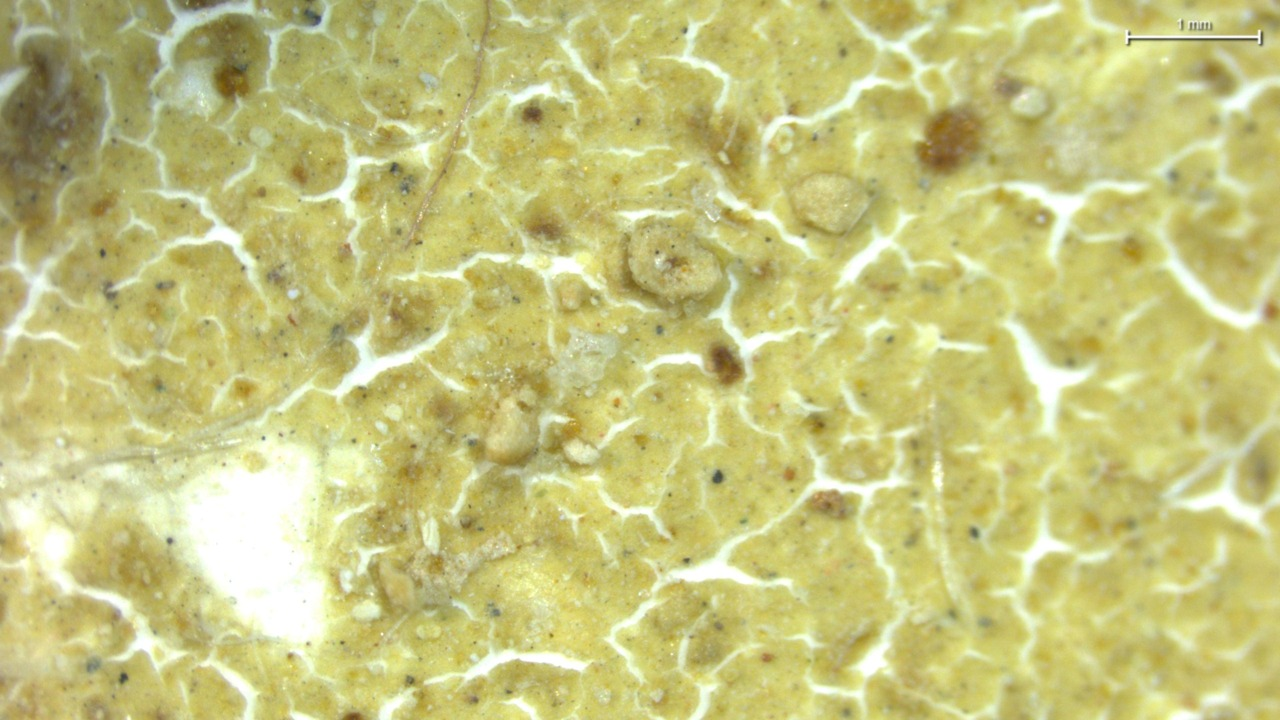microplastic_fragment: (624, 225, 727, 314), (791, 174, 870, 233), (546, 333, 619, 388), (486, 399, 536, 469), (564, 443, 598, 466)
